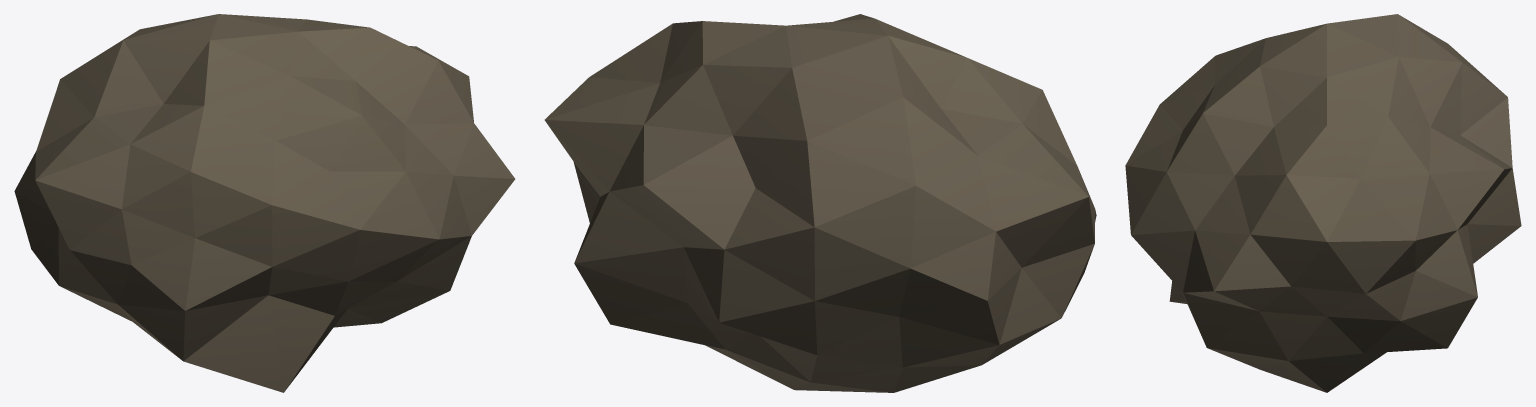
File: rock3.glb
3 views of the same model, side by side, from view 1: azimuth 30°, elevation 25°; view 2: azimuth 150°, elevation 25°; view 3: azimuth 270°, elevation 25° (orthographic). The views are drawn at different scales.
Parts seen in each view (by area): view 1: rock; view 2: rock; view 3: rock.
Boxes of the visible parts, left/top/right/bottom form: rock: left=14, top=14, right=515, bottom=392; rock: left=544, top=14, right=1096, bottom=392; rock: left=1125, top=14, right=1521, bottom=392.
Size of the model in its own units: 9787 by 6554 by 8001.
